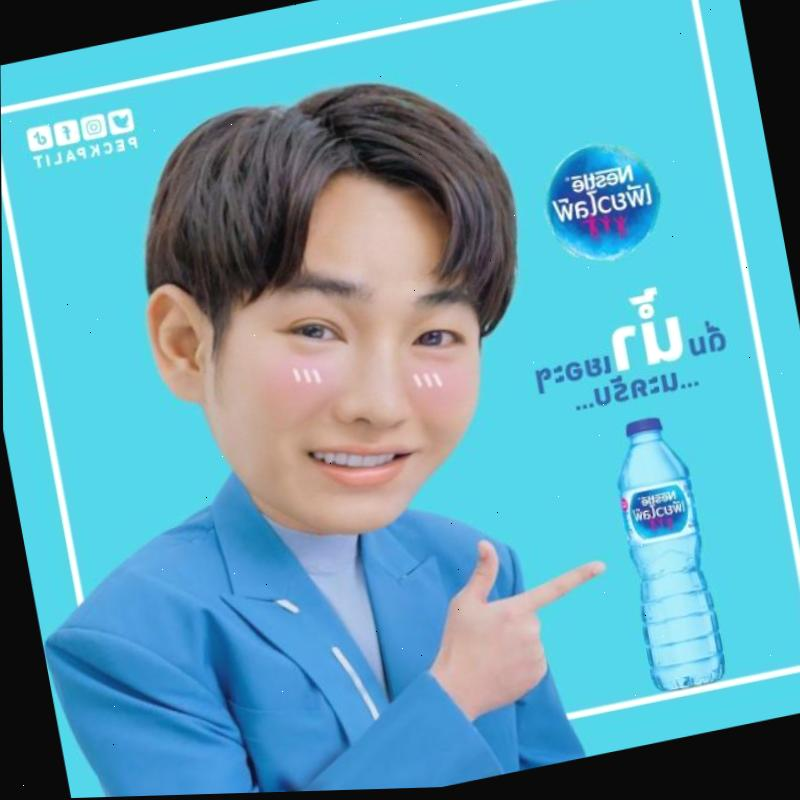botella: (606, 412, 727, 700)
